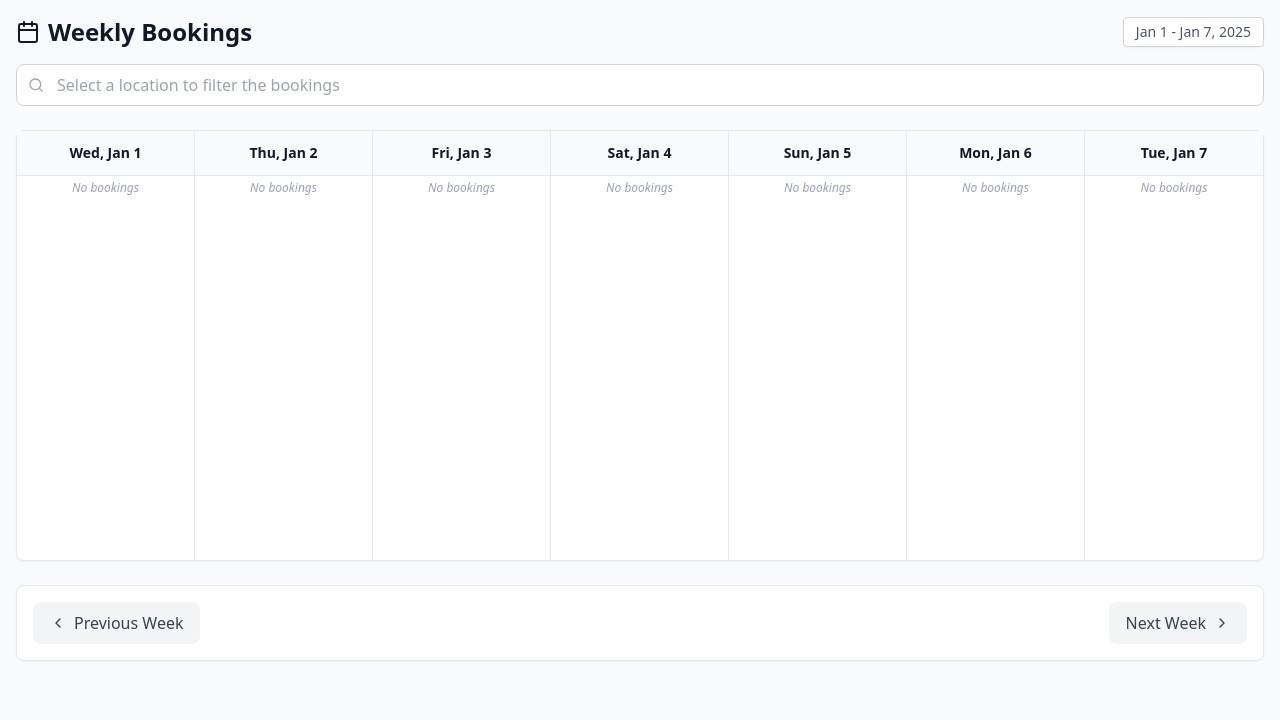
Test: filters bookings by selected station
Type "Station 1" into the field with placeholder "Select a location to filter the bookings". click: coordinates (640, 85)
box: [16, 64, 1264, 106]
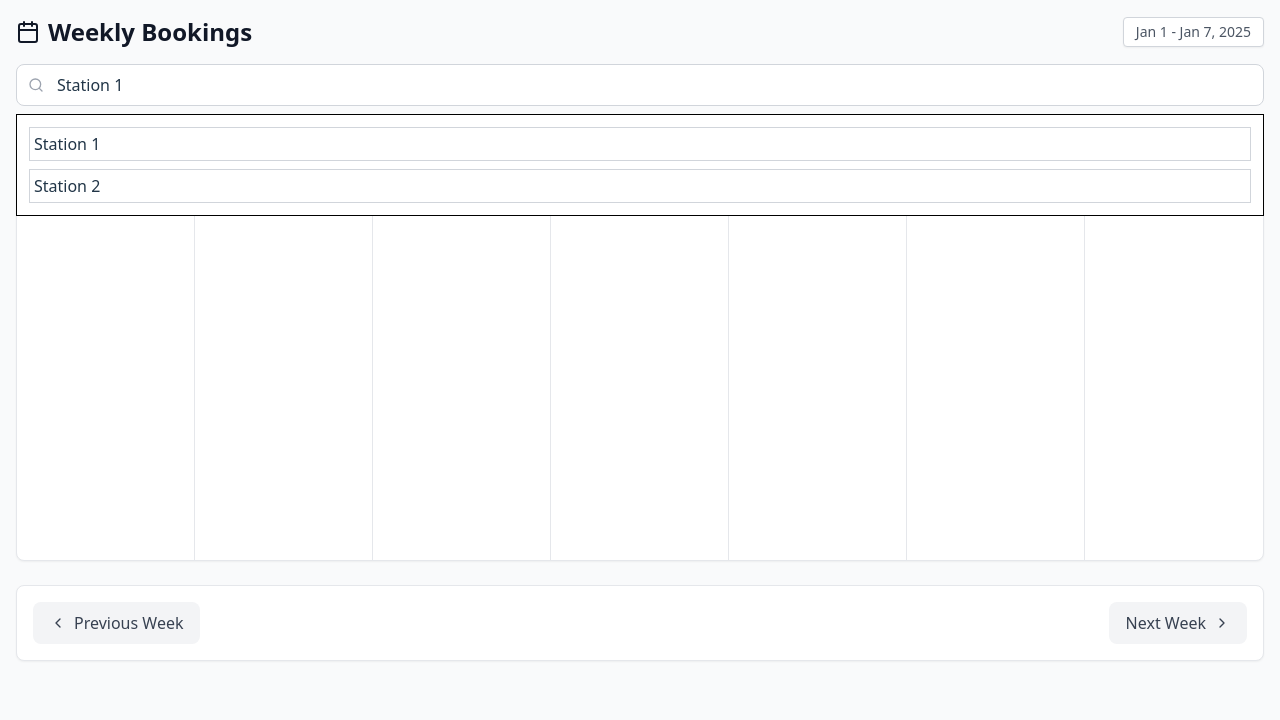
Note: Wait for Station 1 to appear and click it
Click the text "Station 1". click: coordinates (640, 144)
box: [29, 127, 1251, 161]
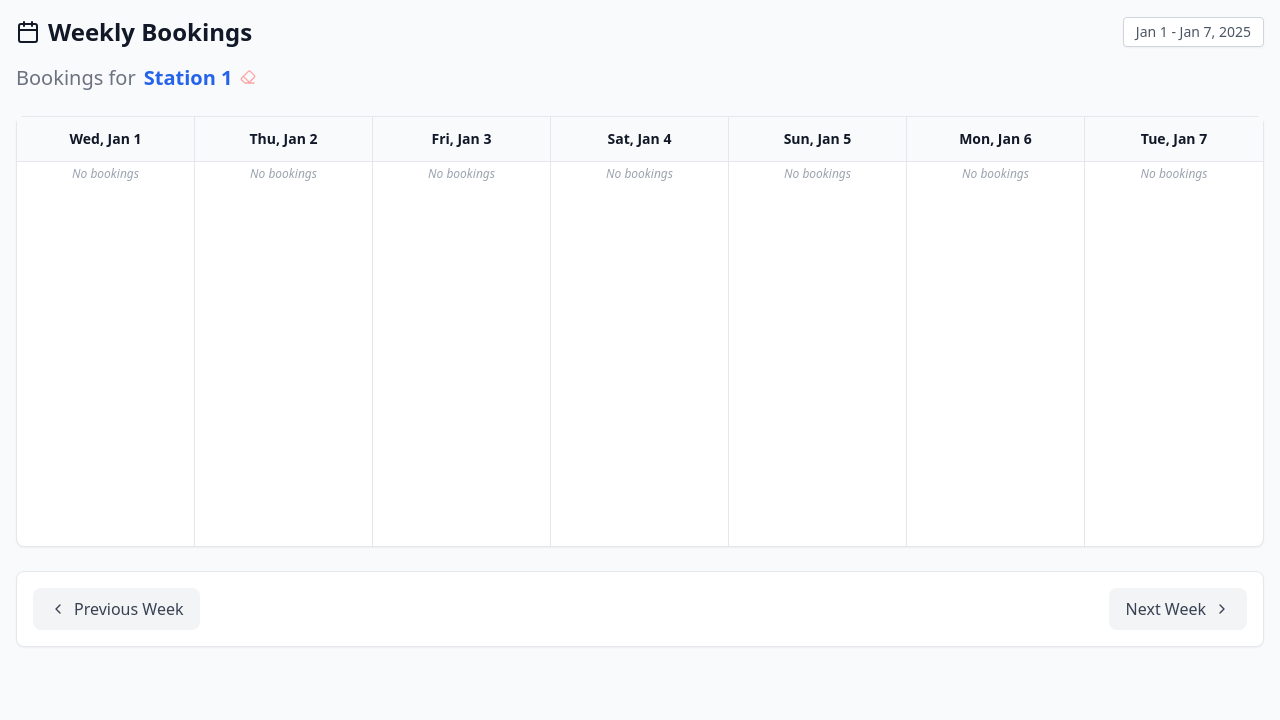
Expected: the text "Bookings for" is shown, [16, 64, 136, 92]
